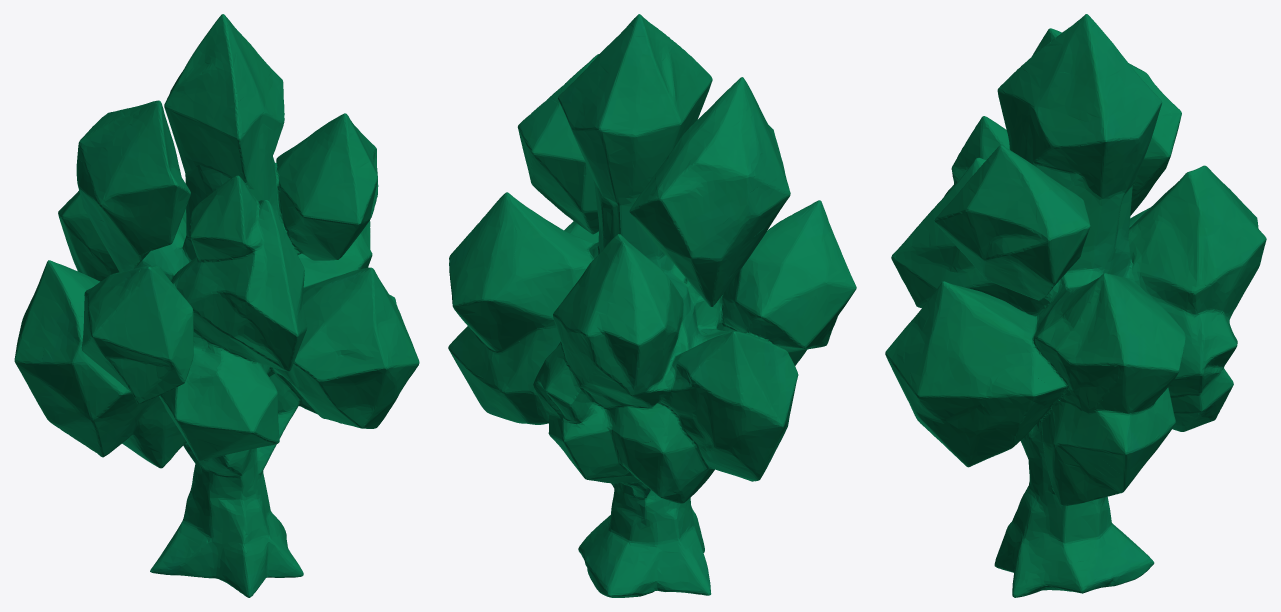
The model's file is THICKET.glb.
3 views of the same model, side by side, from view 1: azimuth 30°, elevation 25°; view 2: azimuth 150°, elevation 25°; view 3: azimuth 270°, elevation 25° (orthographic). The views are drawn at different scales.
Parts seen in each view (by area): view 1: THICKET_512; view 2: THICKET_512; view 3: THICKET_512.
Boxes of the visible parts, left/top/right/bottom form: THICKET_512: left=14, top=14, right=419, bottom=597; THICKET_512: left=448, top=14, right=856, bottom=597; THICKET_512: left=885, top=14, right=1266, bottom=597.
Size of the model in its own units: 1.29 by 1.99 by 1.23.
Materials: 1 (1 with a texture image).
